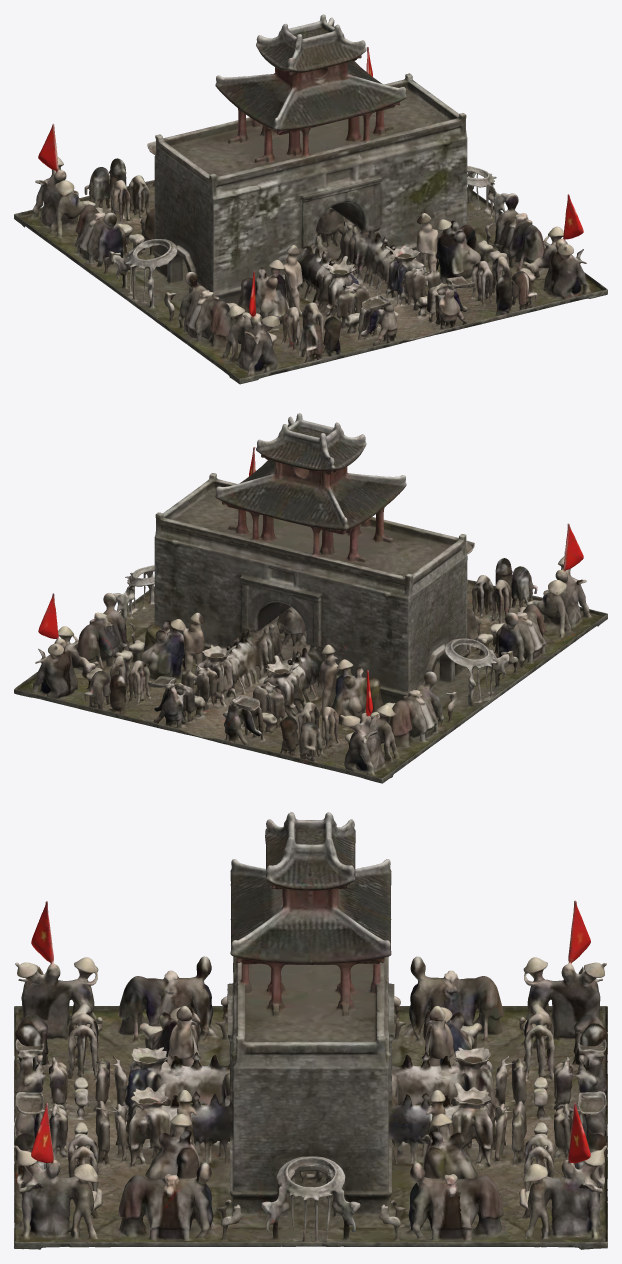
Rendered from co_do_hue.glb.
3 views of the same model, one above another, from view 1: azimuth 30°, elevation 25°; view 2: azimuth 150°, elevation 25°; view 3: azimuth 270°, elevation 25° (orthographic). The views are drawn at different scales.
Bounding box in the file's own units: 1.79 × 1.1 × 1.9.
1 material, 1 textured.
